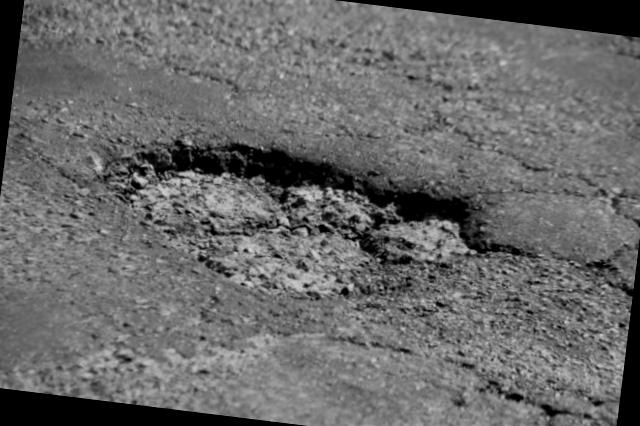Pothole: (80, 118, 506, 336)
